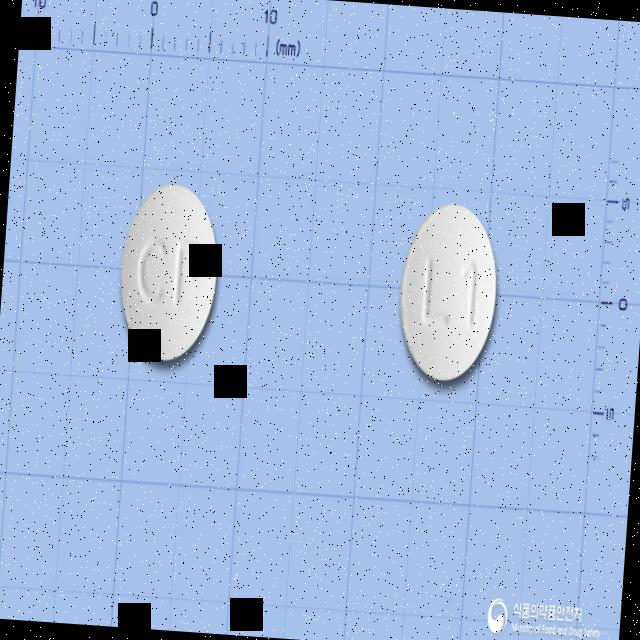Refloxin Tab: (393, 198, 502, 385), (114, 180, 224, 364)
